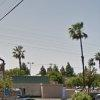Palm tree: (63, 13, 100, 81)
